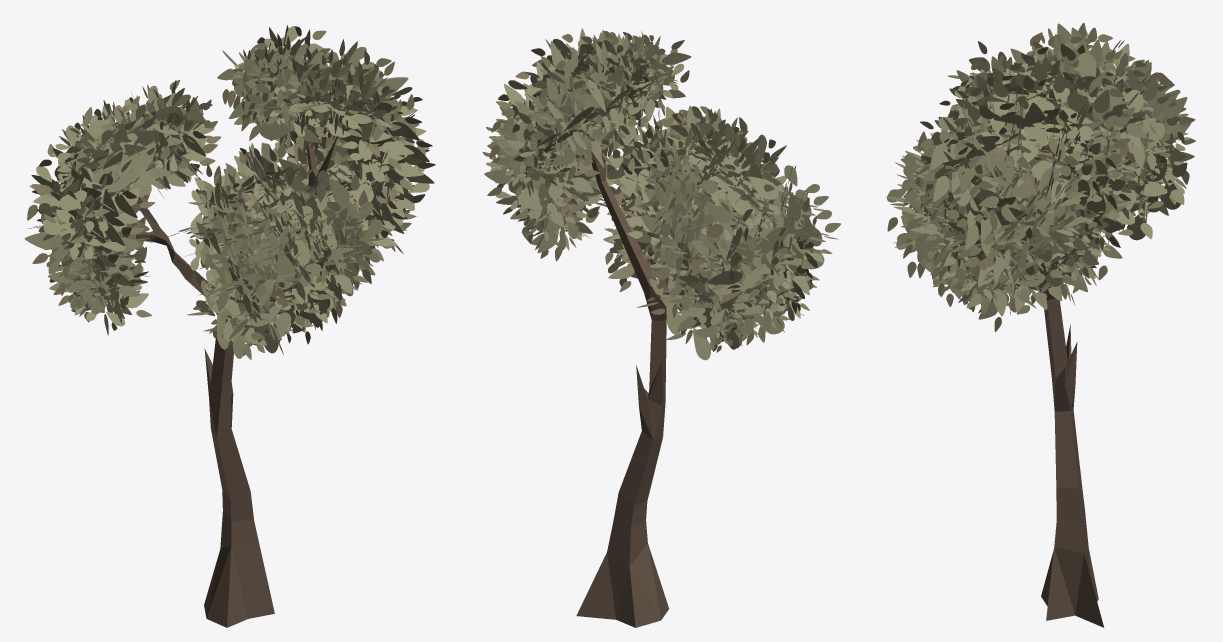
File: tree_alive.glb
3 renders of one model, left to right at view 1: azimuth 30°, elevation 25°; view 2: azimuth 150°, elevation 25°; view 3: azimuth 270°, elevation 25°, orthographic. The views are drawn at different scales.
Parts seen in each view (by area): view 1: tree_2; view 2: tree_2; view 3: tree_2.
Boxes of the visible parts, bbox=[...] form: tree_2: bbox=[24, 25, 435, 627]; tree_2: bbox=[482, 28, 840, 627]; tree_2: bbox=[885, 22, 1195, 627].
Size of the model in its own units: 6.19 by 9.07 by 4.69.
Materials: 2 (1 with a texture image).
